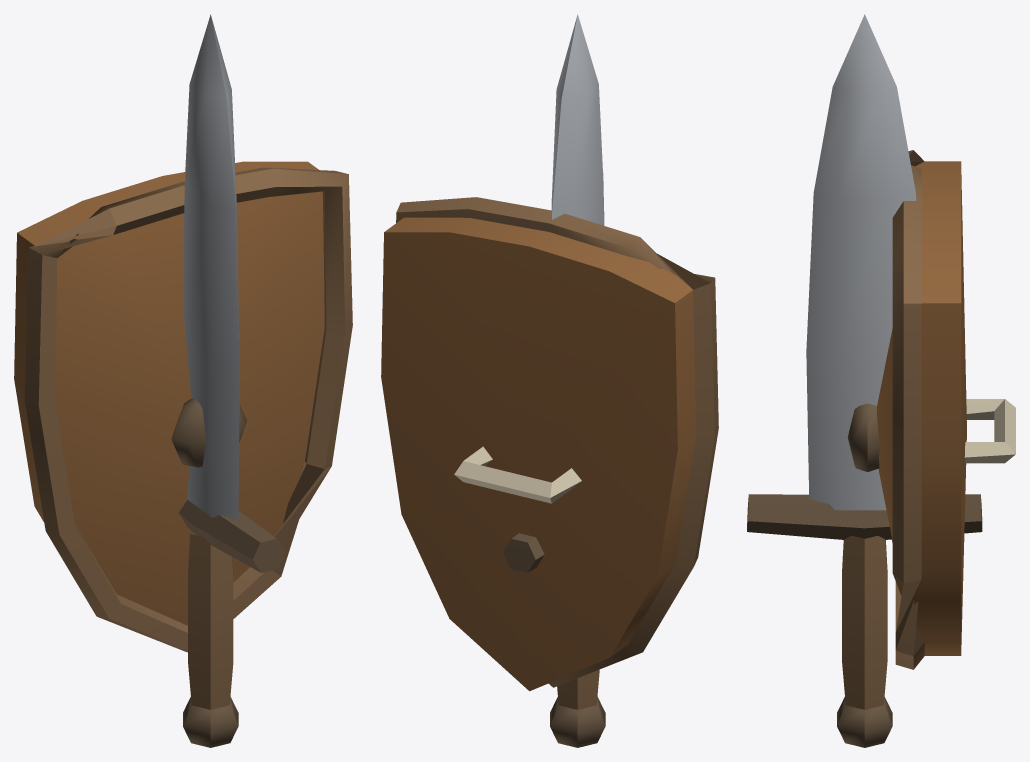
File: aegis-oak.glb
The picture shows the model from 3 angles, left to right: view 1: azimuth 30°, elevation 25°; view 2: azimuth 150°, elevation 25°; view 3: azimuth 270°, elevation 25°; orthographic projection.
Parts seen in each view (by area): view 1: OffHand, aegis-oak; view 2: OffHand, aegis-oak; view 3: aegis-oak, OffHand.
Part boxes in pixels (bbox=[...]): OffHand: bbox=[14, 161, 352, 652]; aegis-oak: bbox=[179, 14, 285, 747]; OffHand: bbox=[381, 197, 718, 691]; aegis-oak: bbox=[503, 14, 605, 747]; aegis-oak: bbox=[747, 14, 982, 747]; OffHand: bbox=[847, 150, 1015, 669].
Size of the model in its own units: 0.2555 by 0.553 by 0.184.
